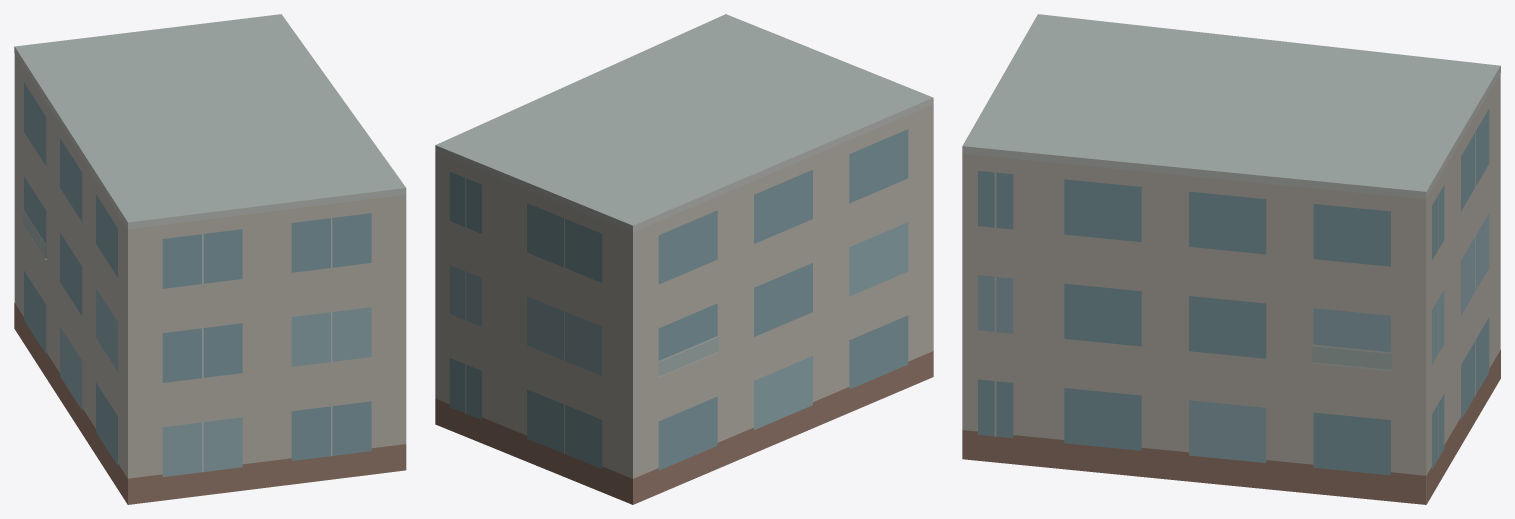
The model's file is survey-upis-32909328.glb.
3 renders of one model, left to right at view 1: azimuth 30°, elevation 25°; view 2: azimuth 150°, elevation 25°; view 3: azimuth 270°, elevation 25°, orthographic. The views are drawn at different scales.
Parts seen in each view (by area): view 1: survey-upis-32909328.tmp; view 2: survey-upis-32909328.tmp; view 3: survey-upis-32909328.tmp.
Part boxes in pixels (box(x1,y1,x2,y2)): survey-upis-32909328.tmp: box(14, 14, 406, 504); survey-upis-32909328.tmp: box(435, 14, 933, 504); survey-upis-32909328.tmp: box(962, 14, 1500, 504).
Size of the model in its own units: 12.44 by 10.2 by 15.91.
